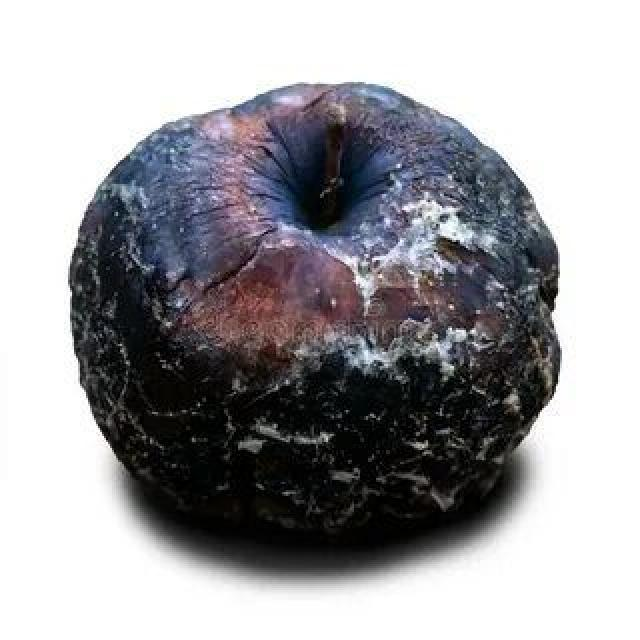Rotten: (54, 93, 558, 582)
